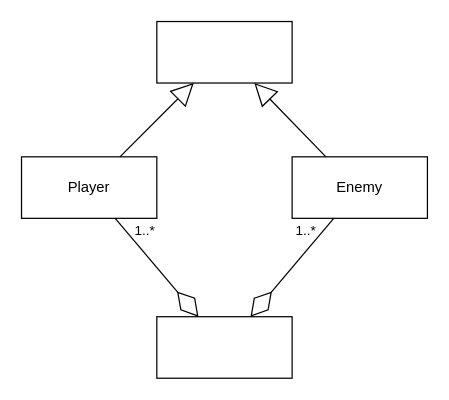
Some shapes in this 449 by 400 pixel diagram are drawn without their labels. Here are the shapes that lost their labels. From the top down, the box of each, then its label:
(156, 20, 292, 83): Character
(156, 315, 292, 378): Battle
